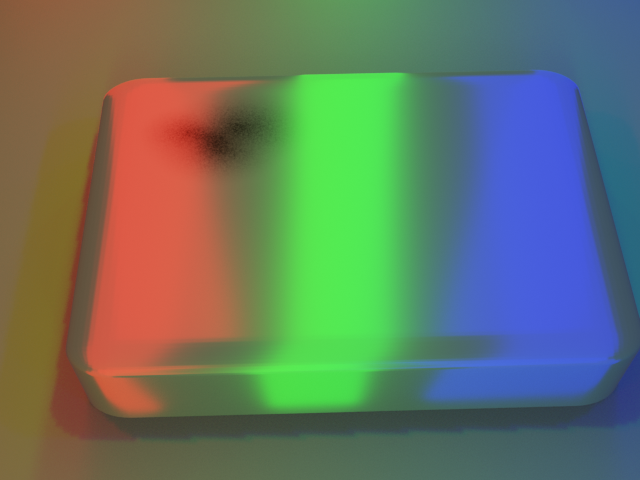stain: (89, 69, 314, 190)
